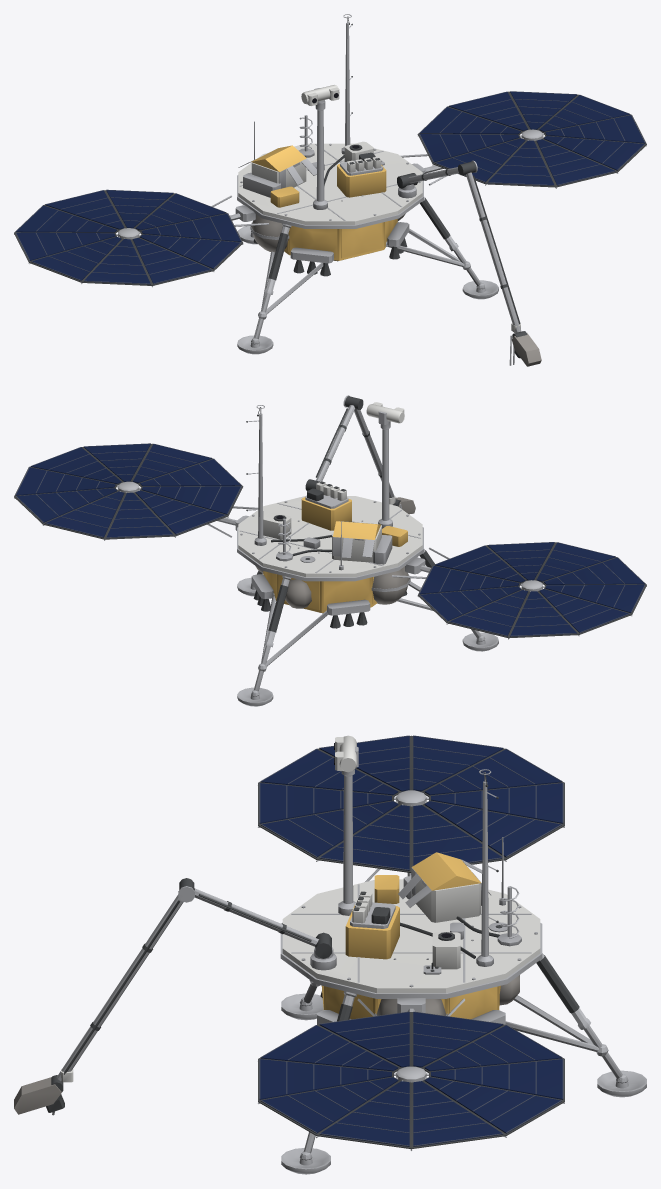
Rendered from phoenix.glb.
3 views of the same model, one above another, from view 1: azimuth 30°, elevation 25°; view 2: azimuth 150°, elevation 25°; view 3: azimuth 270°, elevation 25° (orthographic). The views are drawn at different scales.
Visible parts, largest first — view 1: phoenix_mesh; view 2: phoenix_mesh; view 3: phoenix_mesh.
Part boxes in pixels (x1,y1,x2,y2): phoenix_mesh: (14, 14, 646, 366); phoenix_mesh: (14, 395, 646, 706); phoenix_mesh: (14, 735, 646, 1174).
Bounding box in the file's own units: 5.56 × 2.18 × 3.6.
